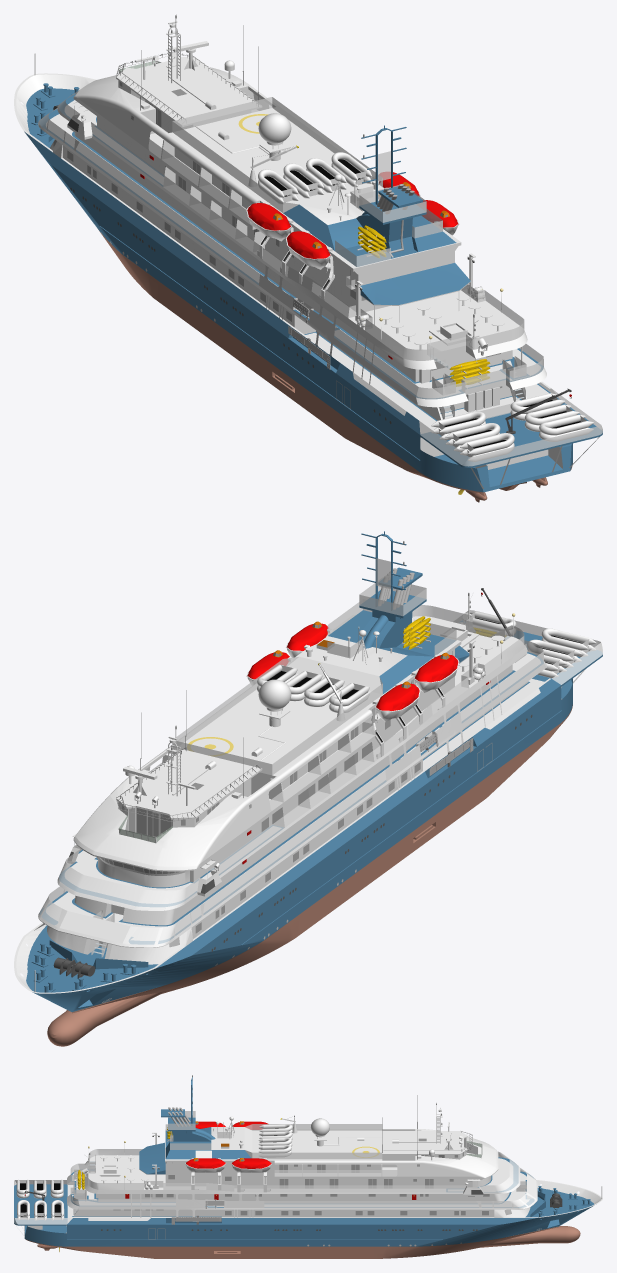
File: ferry.glb
3 renders of one model, top to bottom at view 1: azimuth 30°, elevation 25°; view 2: azimuth 150°, elevation 25°; view 3: azimuth 270°, elevation 25°, orthographic. The views are drawn at different scales.
Parts seen in each view (by area): view 1: Material2 (×10), Material3 (×5); view 2: Material2 (×8), Material3 (×7); view 3: Material2 (×10), Material3 (×5).
Part boxes in pixels (left/top/right/bottom): Material2 (×10): left=14, top=19, right=602, bottom=502; Material3 (×5): left=16, top=21, right=560, bottom=468; Material2 (×8): left=14, top=531, right=602, bottom=1046; Material3 (×7): left=16, top=541, right=546, bottom=1002; Material2 (×10): left=14, top=1077, right=602, bottom=1258; Material3 (×5): left=27, top=1075, right=601, bottom=1239.
Size of the model in its own units: 2720 by 4635 by 15093.
